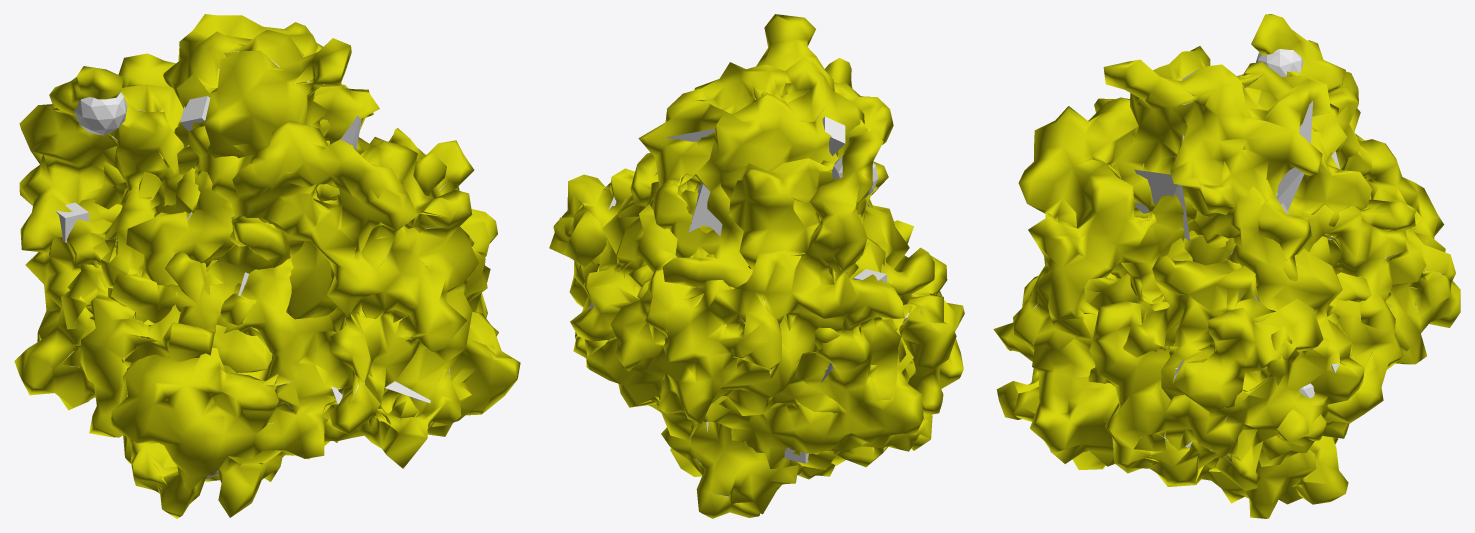
File: perlecan+hep_sulf.fbx
The picture shows the model from 3 angles, left to right: view 1: azimuth 30°, elevation 25°; view 2: azimuth 150°, elevation 25°; view 3: azimuth 270°, elevation 25°; orthographic projection. The views are drawn at different scales.
Parts seen in each view (by area): view 1: 3SH4_LG_like, 1gl4_IG_domain, 2ACM_SEA_DOM, 1LDR_LDL_Rec_Bind_Dom, c_start.004, c_end.001, coord, c_end.004; view 2: 3SH4_LG_like, 1gl4_IG_domain, 2ACM_SEA_DOM, coord.004, 1LDR_LDL_Rec_Bind_Dom, c_end.001; view 3: 3SH4_LG_like, 1gl4_IG_domain, 2ACM_SEA_DOM, coord.004, 1LDR_LDL_Rec_Bind_Dom, c_start.004.
Boxes of the visible parts, box(x1,y1,x2,y2) form: 3SH4_LG_like: box(14, 53, 520, 518); 1gl4_IG_domain: box(78, 14, 379, 517); 2ACM_SEA_DOM: box(61, 84, 498, 437); 1LDR_LDL_Rec_Bind_Dom: box(108, 168, 290, 333); c_start.004: box(74, 92, 127, 135); c_end.001: box(180, 96, 210, 131); coord: box(49, 108, 460, 467); c_end.004: box(55, 202, 88, 242); 3SH4_LG_like: box(553, 58, 964, 474); 1gl4_IG_domain: box(617, 14, 864, 518); 2ACM_SEA_DOM: box(549, 195, 956, 469); coord.004: box(654, 92, 819, 497); 1LDR_LDL_Rec_Bind_Dom: box(573, 161, 913, 358); c_end.001: box(822, 116, 845, 155); 3SH4_LG_like: box(993, 14, 1460, 469); 1gl4_IG_domain: box(1083, 46, 1415, 518); 2ACM_SEA_DOM: box(1084, 149, 1391, 490); coord.004: box(1134, 68, 1340, 483); 1LDR_LDL_Rec_Bind_Dom: box(1149, 302, 1326, 441); c_start.004: box(1255, 49, 1303, 77).
Bounding box in the file's own units: 46.27 × 49.65 × 45.32.
